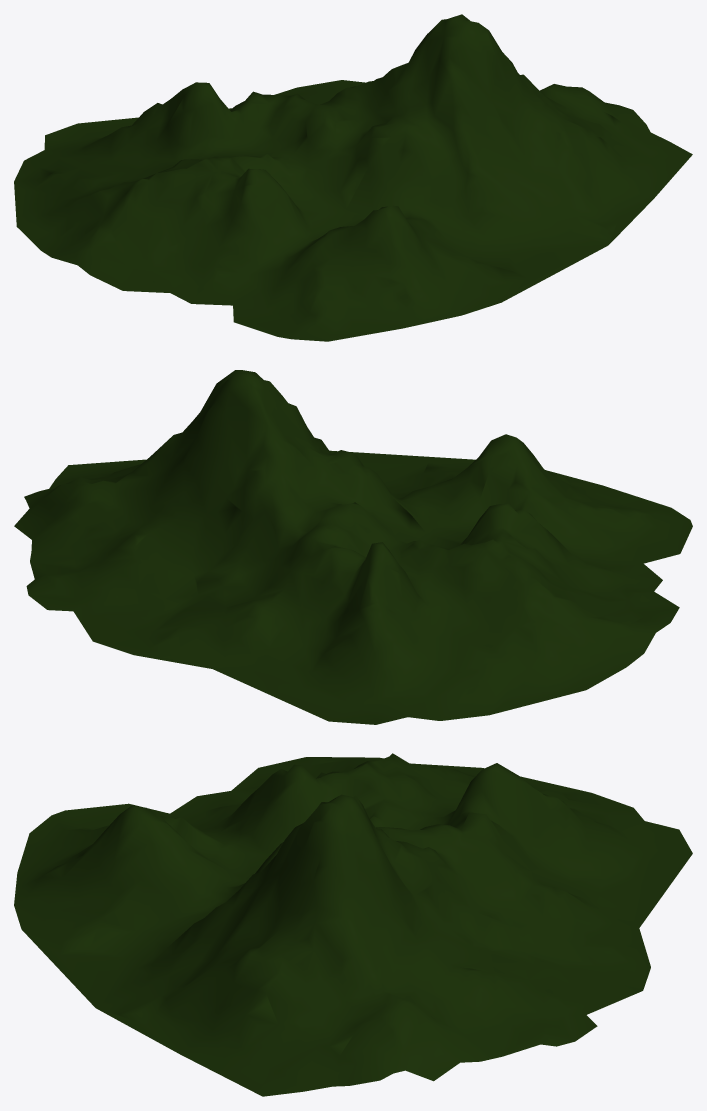
File: Mountain V05S.FBX
3 renders of one model, top to bottom at view 1: azimuth 30°, elevation 25°; view 2: azimuth 150°, elevation 25°; view 3: azimuth 270°, elevation 25°, orthographic. The views are drawn at different scales.
Parts seen in each view (by area): view 1: Mountain V05S; view 2: Mountain V05S; view 3: Mountain V05S.
Boxes of the visible parts, box(x1,y1,x2,y2) form: Mountain V05S: box(14, 14, 692, 341); Mountain V05S: box(14, 370, 692, 724); Mountain V05S: box(14, 753, 692, 1096).
Size of the model in its own units: 23.53 by 6.1 by 20.19.
